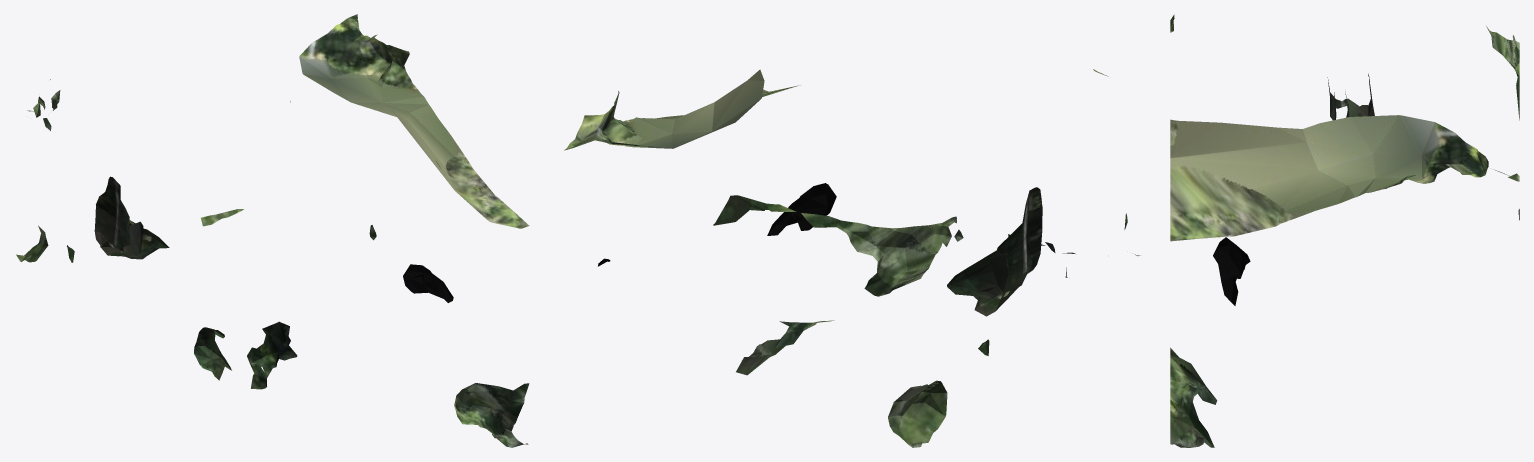
The picture shows the model from 3 angles, left to right: view 1: azimuth 30°, elevation 25°; view 2: azimuth 150°, elevation 25°; view 3: azimuth 270°, elevation 25°; orthographic projection. The views are drawn at different scales.
Size of the model in its own units: 26.11 by 23.88 by 26.11.
2 materials, 2 textured.
